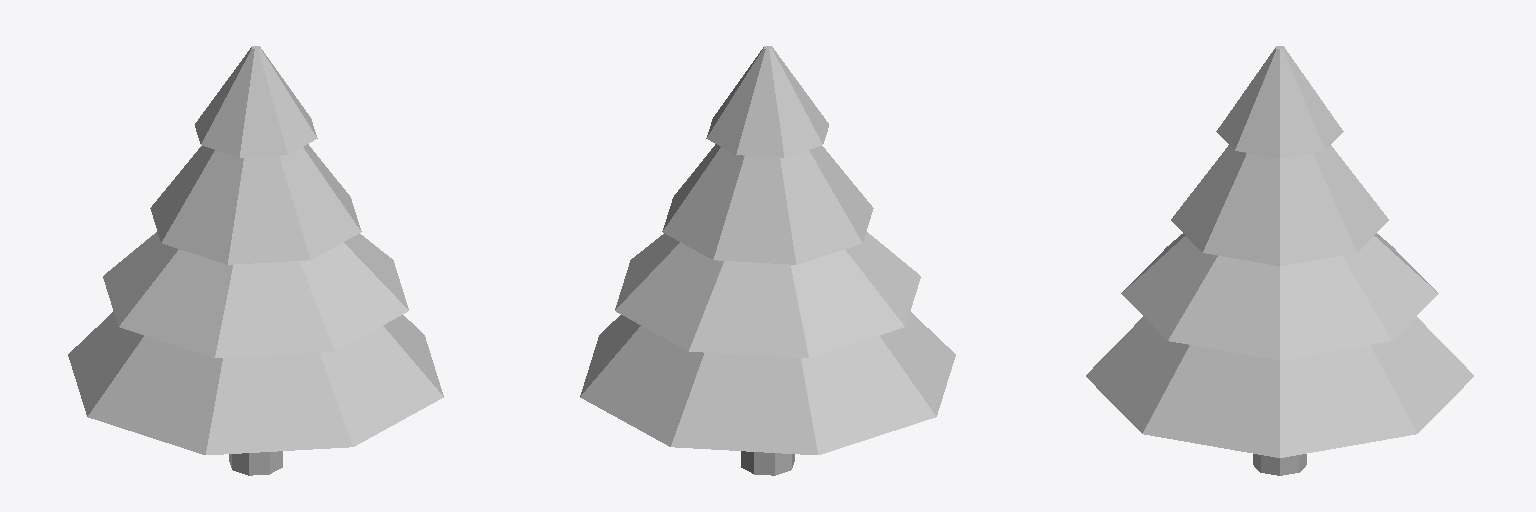
The model's file is tree_pine_04.obj.
The picture shows the model from 3 angles: view 1: azimuth 30°, elevation 25°; view 2: azimuth 150°, elevation 25°; view 3: azimuth 270°, elevation 25°; orthographic projection.
Visible parts, largest first — view 1: Tree3; view 2: Tree3; view 3: Tree3.
Part boxes in pixels (left/top/right/bottom): Tree3: left=68, top=46, right=443, bottom=475; Tree3: left=580, top=46, right=955, bottom=475; Tree3: left=1086, top=46, right=1473, bottom=475.
Bounding box in the file's own units: 3.18 × 3.75 × 3.18.